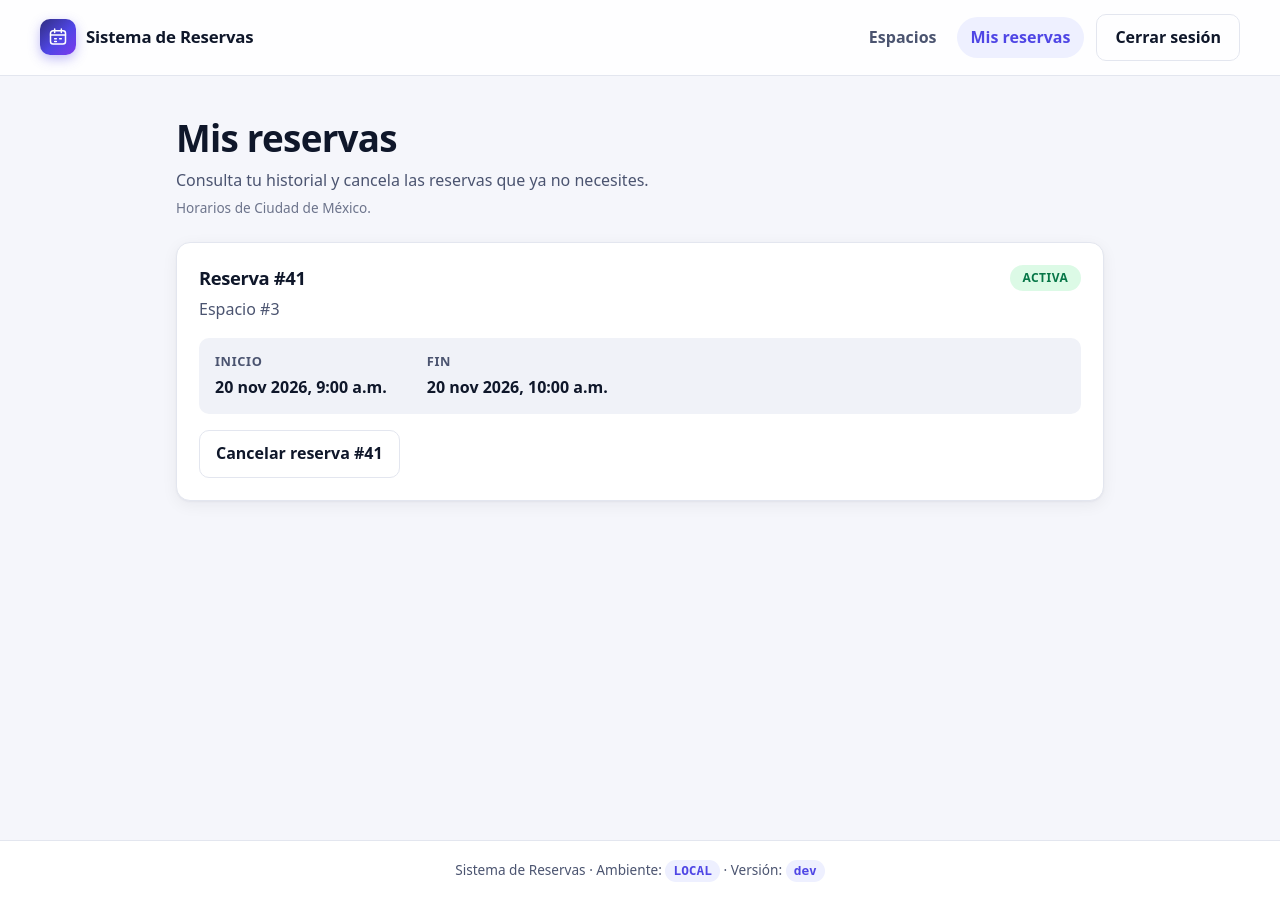
Test: un 401 al cancelar retira el historial y regresa al login
The image size is (1280, 900).
Click the button "Cancelar reserva #41": click(299, 454) [199,430,400,478]
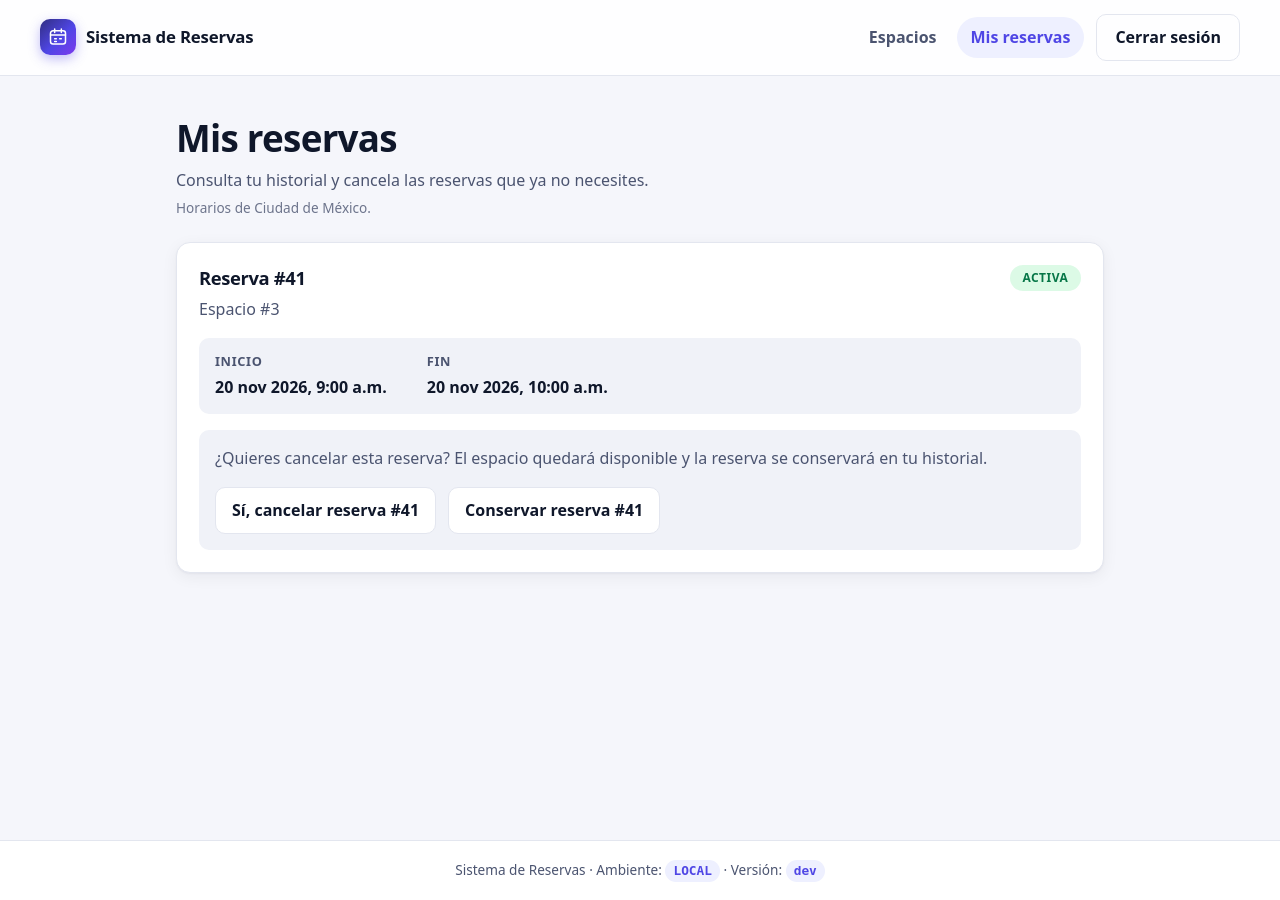
Click the button "Sí, cancelar reserva #41": click(326, 511) [215,487,436,534]
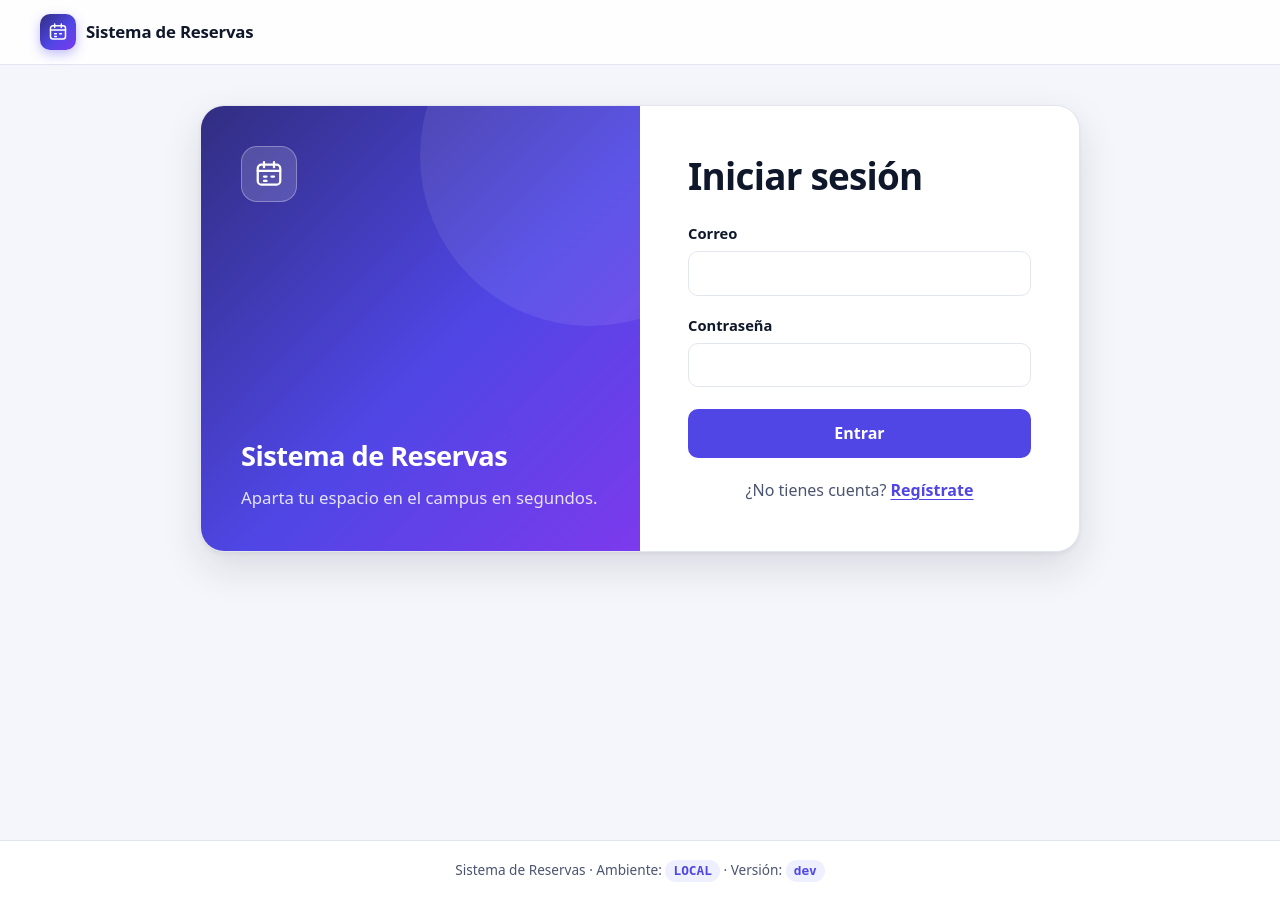
Now the heading "Iniciar sesión" is shown, box [688,151,922,201]
Now the heading "Reserva #41" is gone
